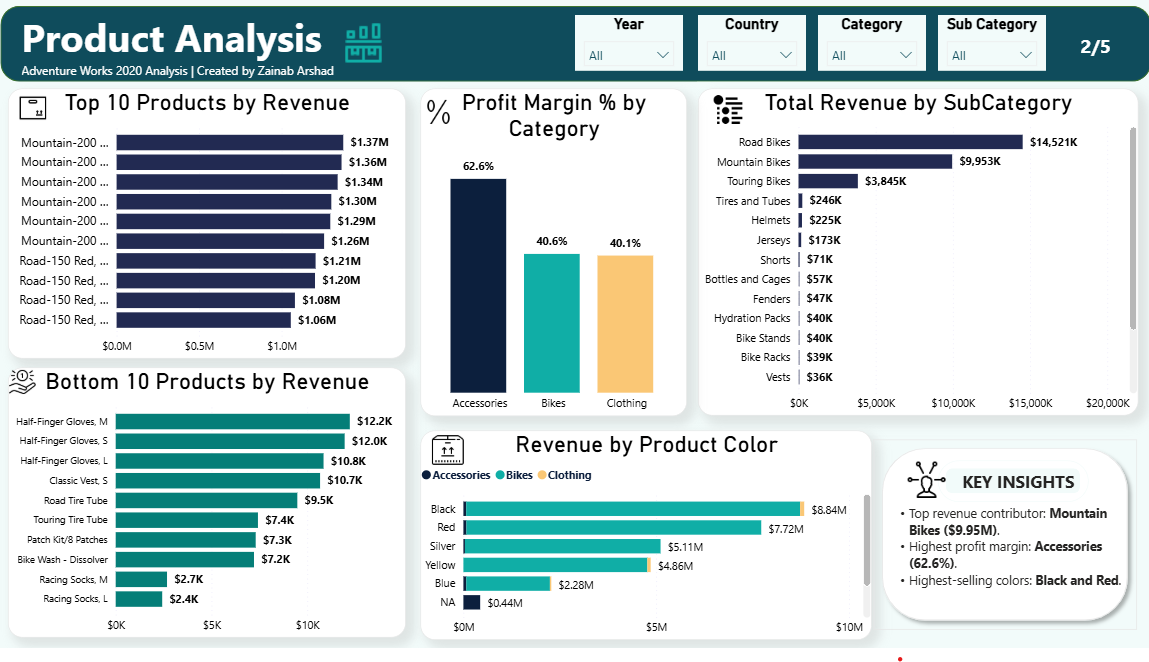

Layout of this report page (visuals, bound fields, positions):
{"tool":"powerbi","page":{"name":"Product Analysis","canvas":[1280,720],"ordinal":1},"visuals":[{"type":"clusteredBarChart","title":"Top 10 Products by Revenue","fields":{"Category":["Products.ProductName"],"Y":["Sales.Total Revenue"]},"box":[10,98.2,441.8,300],"z":0},{"type":"clusteredBarChart","title":"Bottom 10 Products by Revenue","fields":{"Category":["Products.ProductName"],"Y":["Sales.Total Revenue"]},"box":[10,409,442,300],"z":1000},{"type":"clusteredBarChart","fields":{"Category":["Products.SubCategory"],"Y":["Sales.Total Revenue"]},"box":[776.4,98.2,489.1,363.6],"z":2000},{"type":"clusteredColumnChart","fields":{"Category":["Products.Category"],"Y":["Sales.Profit Margin %"]},"box":[469,98,296,364],"z":3000},{"type":"barChart","title":"Revenue by Product Color","fields":{"Category":["Products.Color"],"Y":["Sales.Total Revenue"],"Series":["Products.Category"]},"box":[468.6,478.6,501.4,232.9],"z":4000},{"type":"shape","box":[1,7,1278.3,84],"z":5000},{"type":"slicer","title":"Year","fields":{"Values":["Calendar.CalendarYear"]},"box":[640,16.7,120,61.7],"z":6000},{"type":"slicer","title":"Sub Category","fields":{"Values":["Products.SubCategory"]},"box":[1043.3,16.7,120,61.7],"z":7000},{"type":"slicer","title":"Category","fields":{"Values":["Products.Category"]},"box":[910,16.7,120,61.7],"z":8000},{"type":"slicer","title":"Country","fields":{"Values":["Territory.Country"]},"box":[776.7,16.7,120,61.7],"z":9000},{"type":"textbox","box":[20,6.7,588.3,96.7],"z":10000},{"type":"textbox","box":[1196,30,84,48],"z":11000},{"type":"image","box":[380,16,50,62],"z":12000},{"type":"shape","box":[971.7,488.3,292.9,211.4],"z":13000},{"type":"shape","box":[1042.9,511.4,167.1,45.7],"z":14000},{"type":"textbox","box":[1043.3,516,191.7,46.7],"z":15000},{"type":"image","box":[971.7,510,118,46],"z":16000},{"type":"textbox","box":[985,537,280,168.3],"z":17000},{"type":"image","box":[20,98.3,35,43.3],"z":18000},{"type":"image","box":[451.7,103.3,73.3,41.7],"z":19000},{"type":"image","box":[776.7,101.7,66.7,40],"z":20000},{"type":"image","box":[10,408.3,31.7,31.7],"z":21000},{"type":"image","box":[468.3,478.3,61.7,41.7],"z":22000}]}

Visuals, with their boxes in screenshot pixels (x1, y1, x2, y2), scaled from the page's 1280x720 canvas onto the 1149x662 screenshot:
"Top 10 Products by Revenue" clusteredBarChart: [9, 90, 406, 366]
"Bottom 10 Products by Revenue" clusteredBarChart: [9, 376, 406, 652]
clusteredBarChart - Products.SubCategory x Sales.Total Revenue: [697, 90, 1136, 425]
clusteredColumnChart - Products.Category x Sales.Profit Margin %: [421, 90, 687, 425]
"Revenue by Product Color" barChart: [421, 440, 871, 654]
shape: [1, 6, 1148, 84]
"Year" slicer: [574, 15, 682, 72]
"Sub Category" slicer: [937, 15, 1044, 72]
"Category" slicer: [817, 15, 925, 72]
"Country" slicer: [697, 15, 805, 72]
textbox: [18, 6, 546, 95]
textbox: [1074, 28, 1148, 72]
image: [341, 15, 386, 72]
shape: [872, 449, 1135, 643]
shape: [936, 470, 1086, 512]
textbox: [937, 474, 1109, 517]
image: [872, 469, 978, 511]
textbox: [884, 494, 1136, 648]
image: [18, 90, 49, 130]
image: [405, 95, 471, 133]
image: [697, 94, 757, 130]
image: [9, 375, 37, 405]
image: [420, 440, 476, 478]
